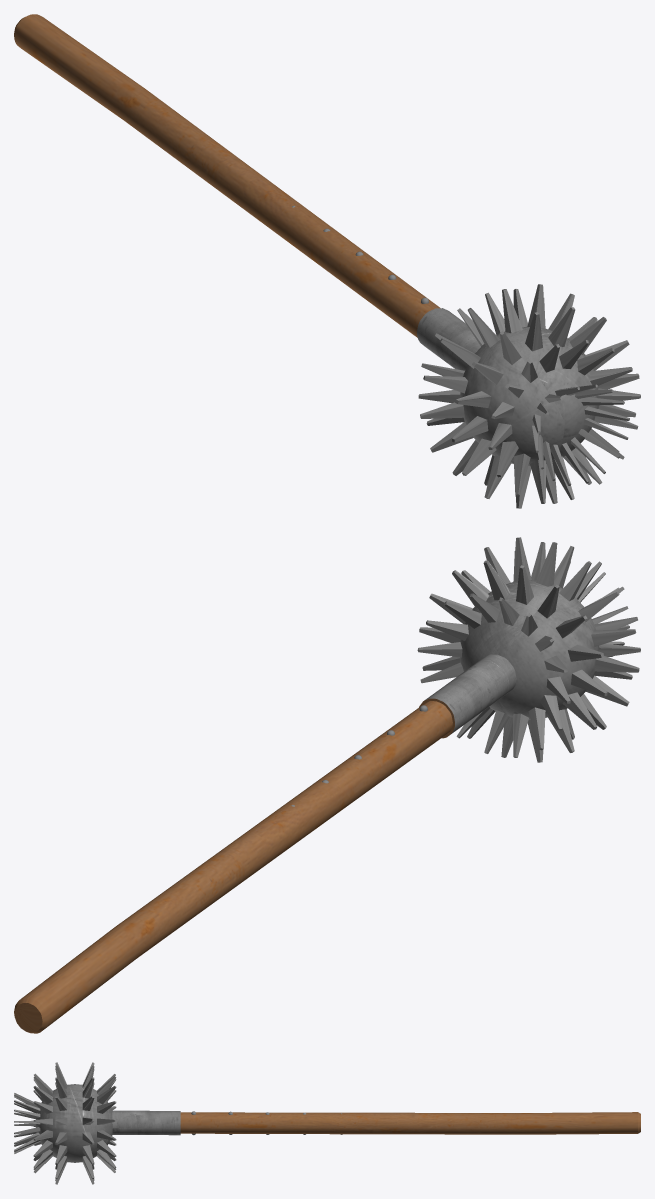
Rendered from MorningStar.fbx.
3 views of the same model, one above another, from view 1: azimuth 30°, elevation 25°; view 2: azimuth 150°, elevation 25°; view 3: azimuth 270°, elevation 25° (orthographic). The views are drawn at different scales.
Visible parts, largest first — view 1: Sphere.010; view 2: Sphere.010; view 3: Sphere.010.
Part boxes in pixels (x1,y1,x2,y2): Sphere.010: [14, 14, 640, 508]; Sphere.010: [14, 537, 640, 1033]; Sphere.010: [14, 1062, 640, 1184].
Size of the model in its own units: 16.75 by 16.75 by 86.02.
